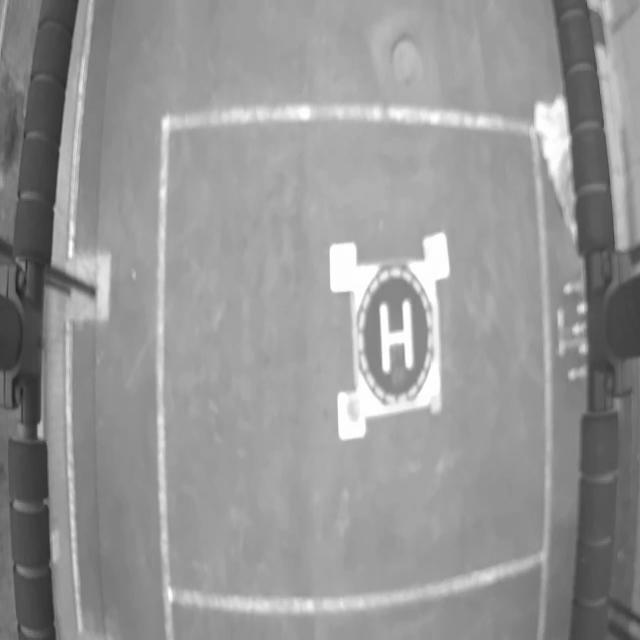Helipad: (379, 299, 414, 375)
